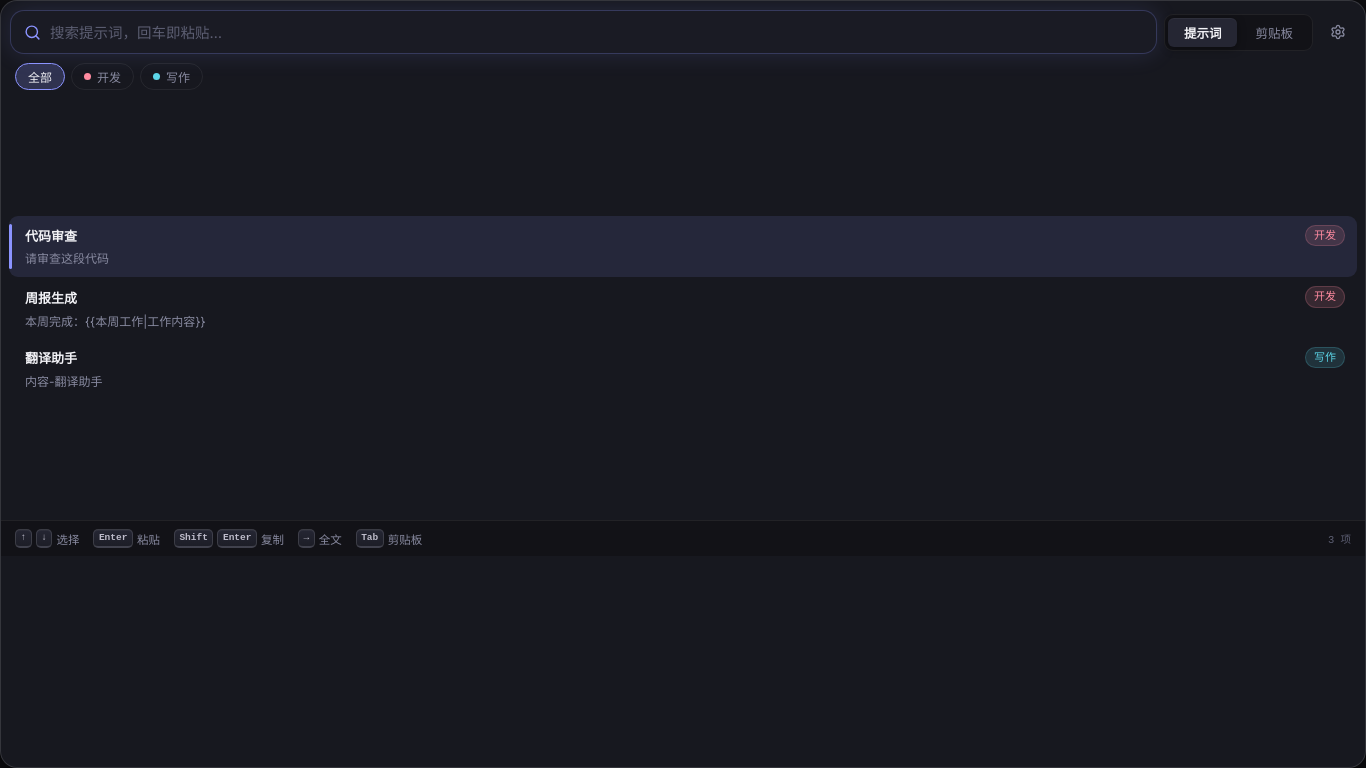
Test: QuickPanel：快捷面板 › 无匹配时显示空状态
In the field with placeholder "搜索提示词，回车即粘贴…": (596,32) top-left (50, 14), bottom-right (1143, 50), type "完全无关的查询词"
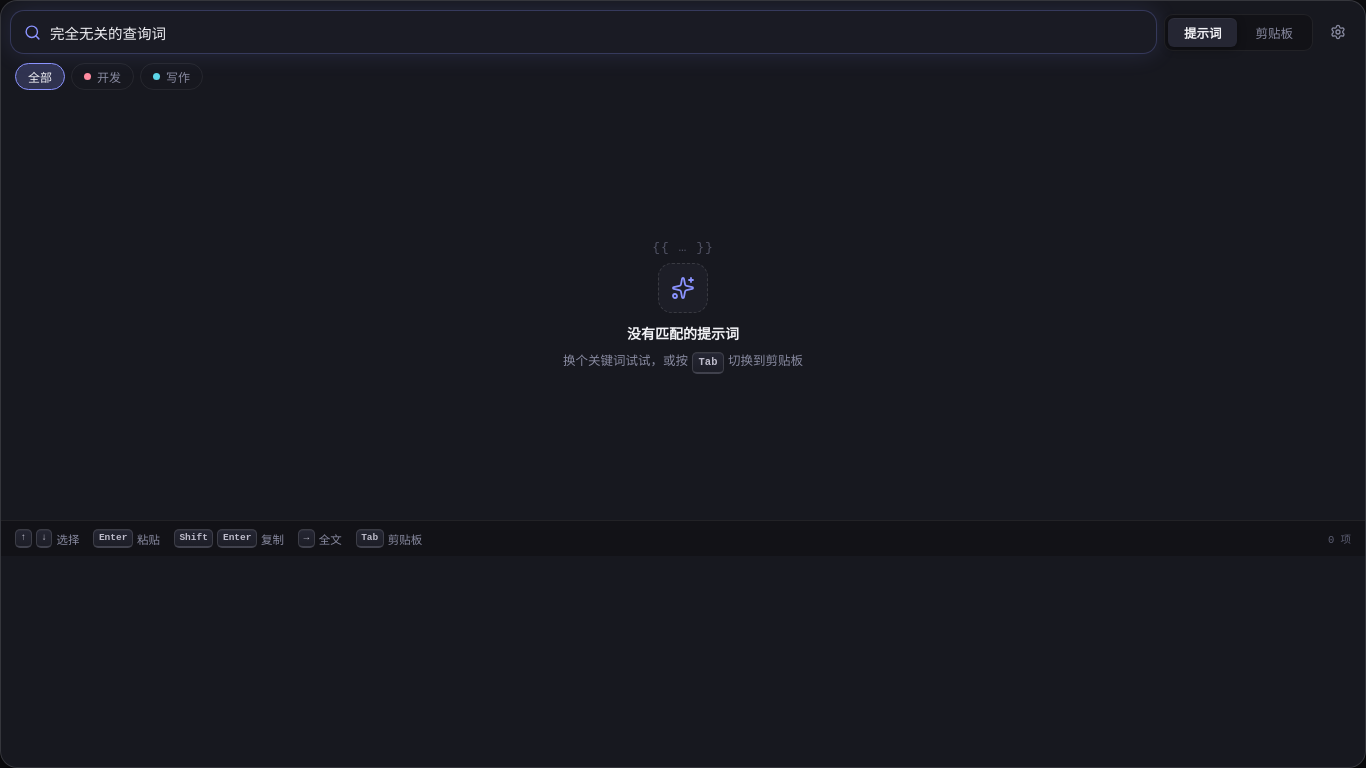
expect the text "没有匹配的提示词" is shown: met, box top-left (627, 323), bottom-right (739, 343)
